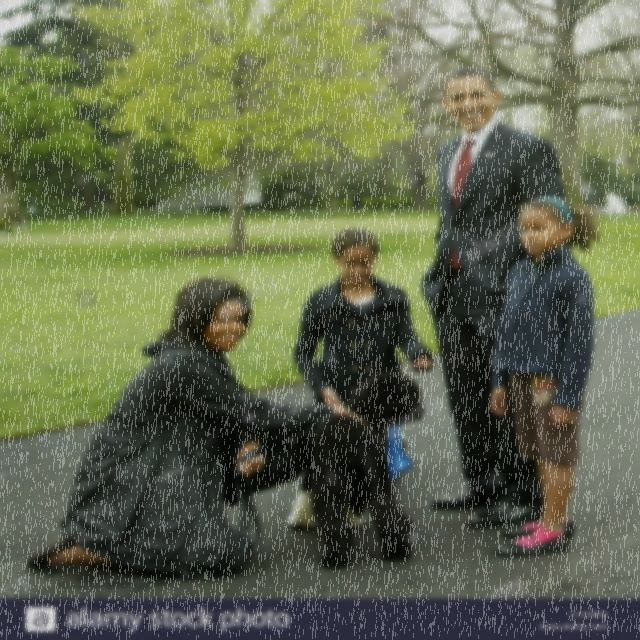pessoa: (23, 270, 380, 586), (416, 64, 576, 532), (483, 192, 604, 559), (290, 227, 436, 414), (351, 191, 361, 211)
